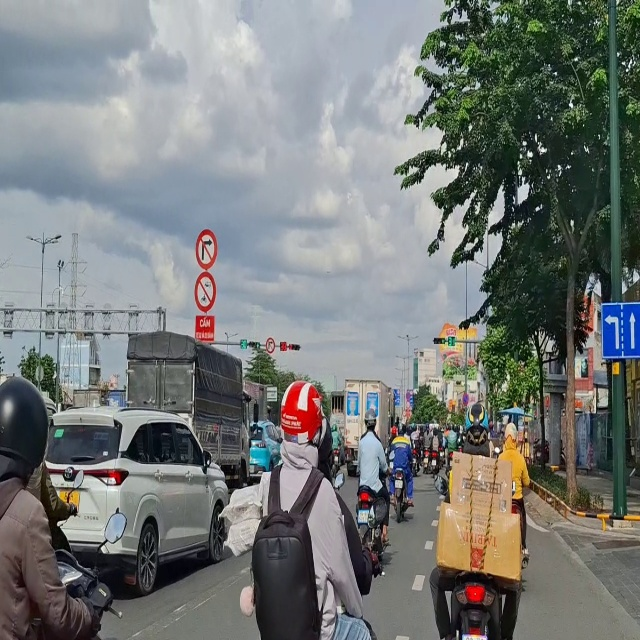cam queo phai: (183, 218, 227, 272)
